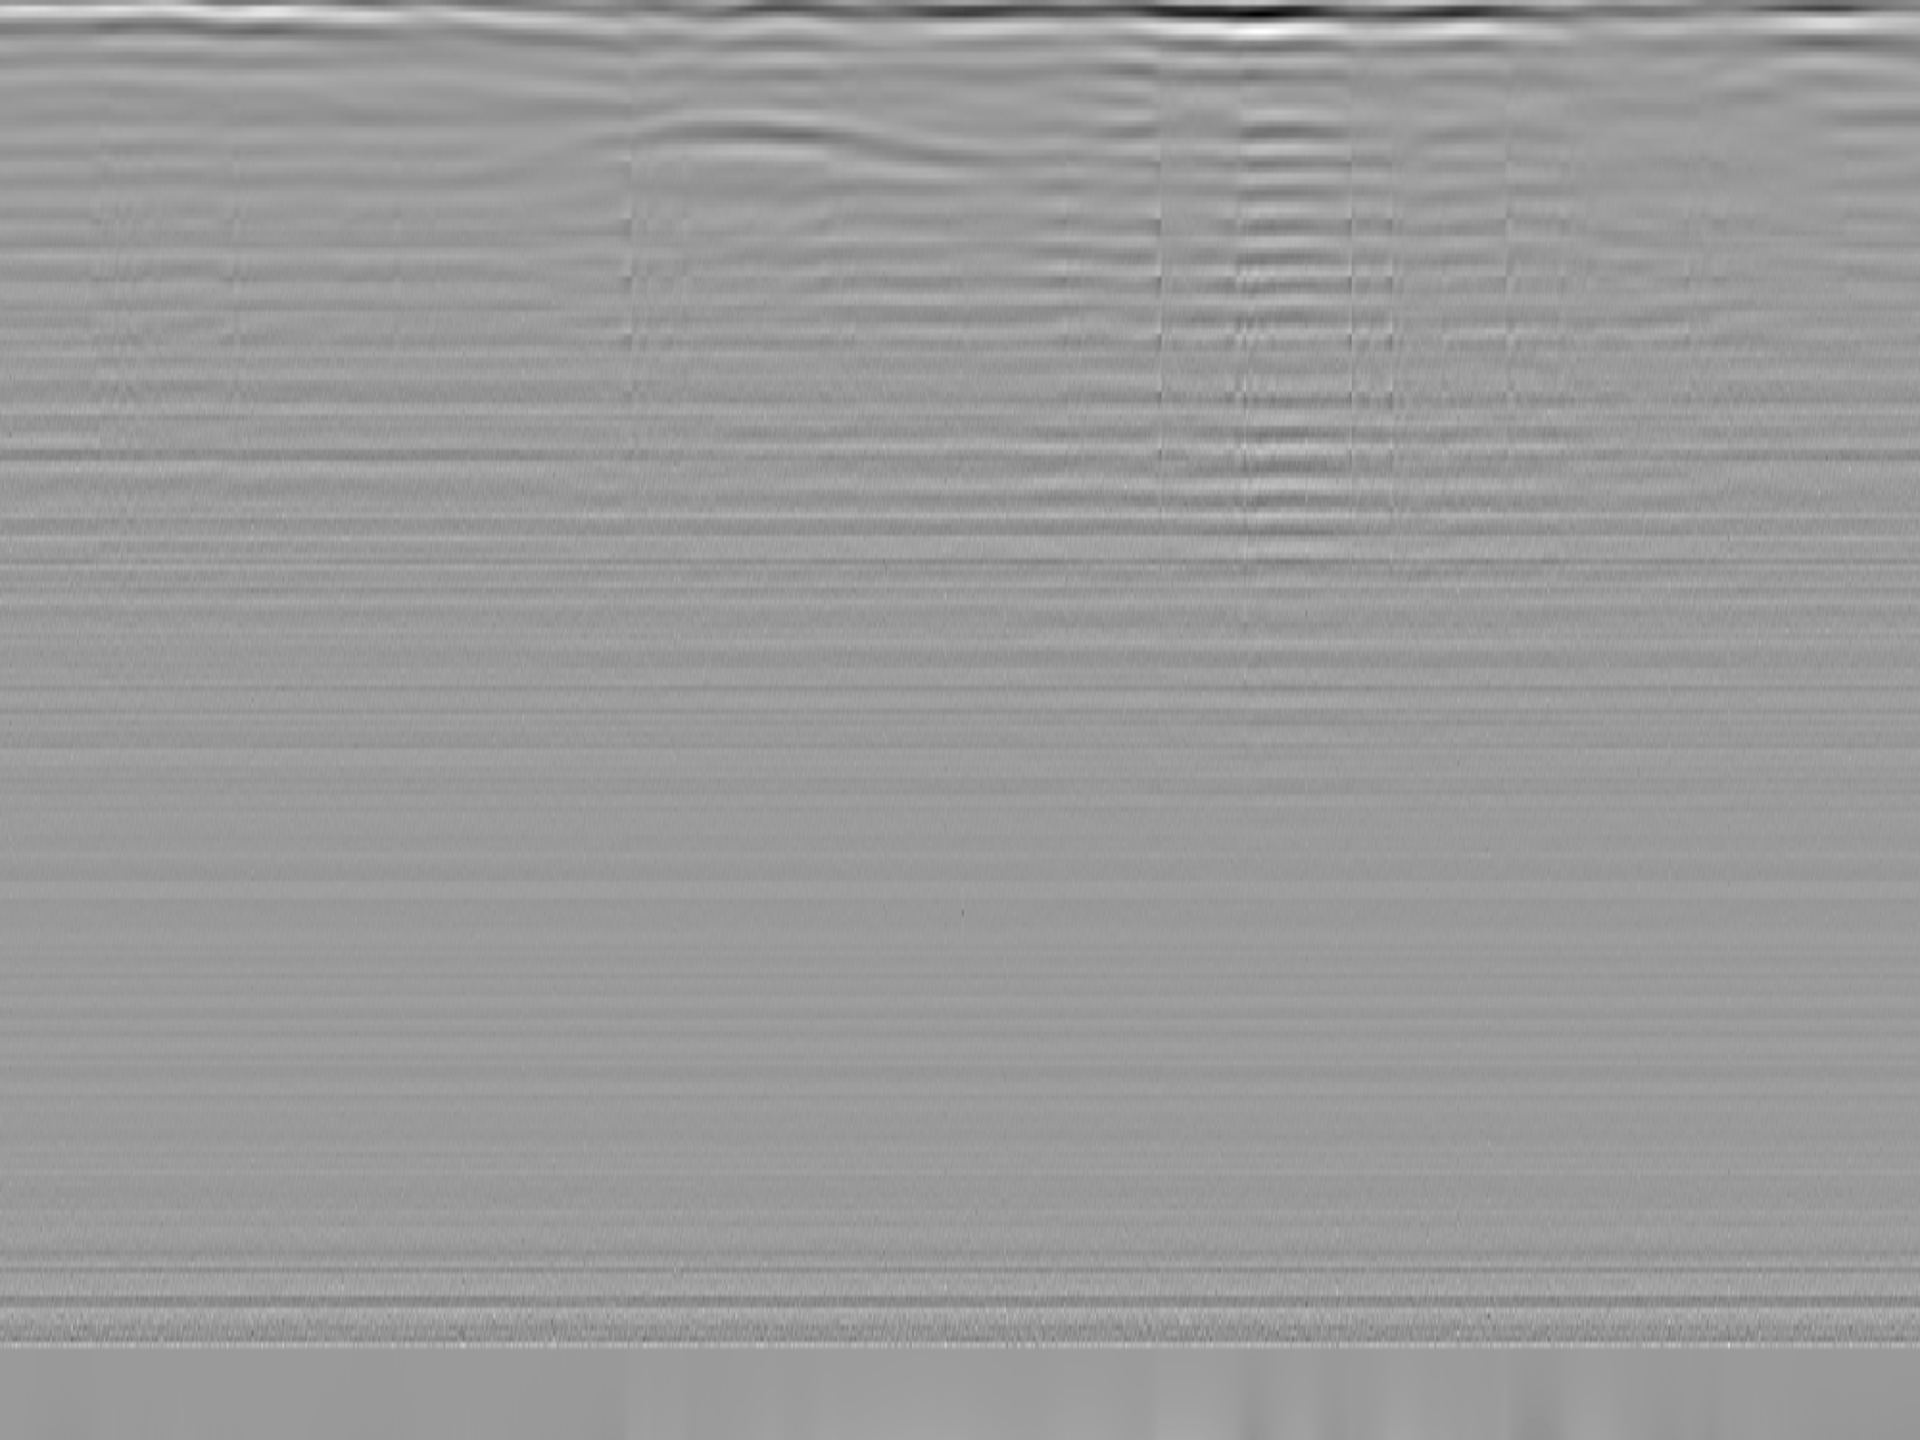Tunnel: (472, 109, 1042, 191)
